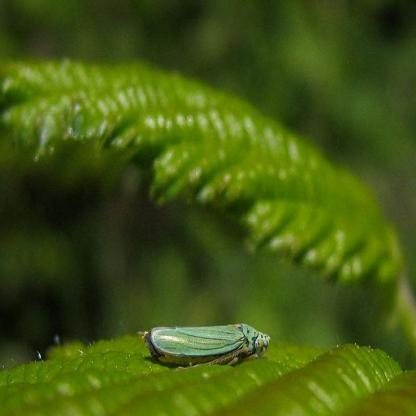green-leafhopper: (142, 320, 272, 368)
